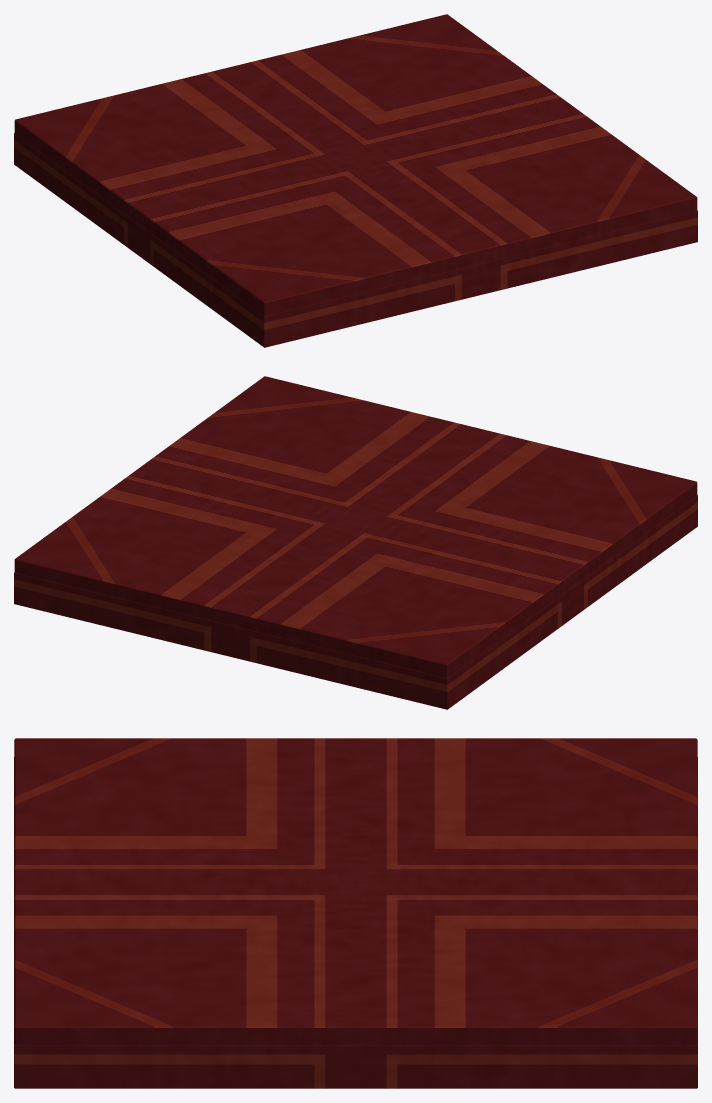
File: floor_carpet_b.glb
The picture shows the model from 3 angles, top to bottom: view 1: azimuth 30°, elevation 25°; view 2: azimuth 150°, elevation 25°; view 3: azimuth 270°, elevation 25°; orthographic projection. The views are drawn at different scales.
Visible parts, largest first — view 1: floor_carpet_b; view 2: floor_carpet_b; view 3: floor_carpet_b.
Part boxes in pixels (x1,y1,x2,y2): floor_carpet_b: [14, 14, 697, 347]; floor_carpet_b: [14, 376, 697, 709]; floor_carpet_b: [14, 738, 697, 1088].
Size of the model in its own units: 1 by 0.1 by 1.
Materials: 1 (1 with a texture image).
